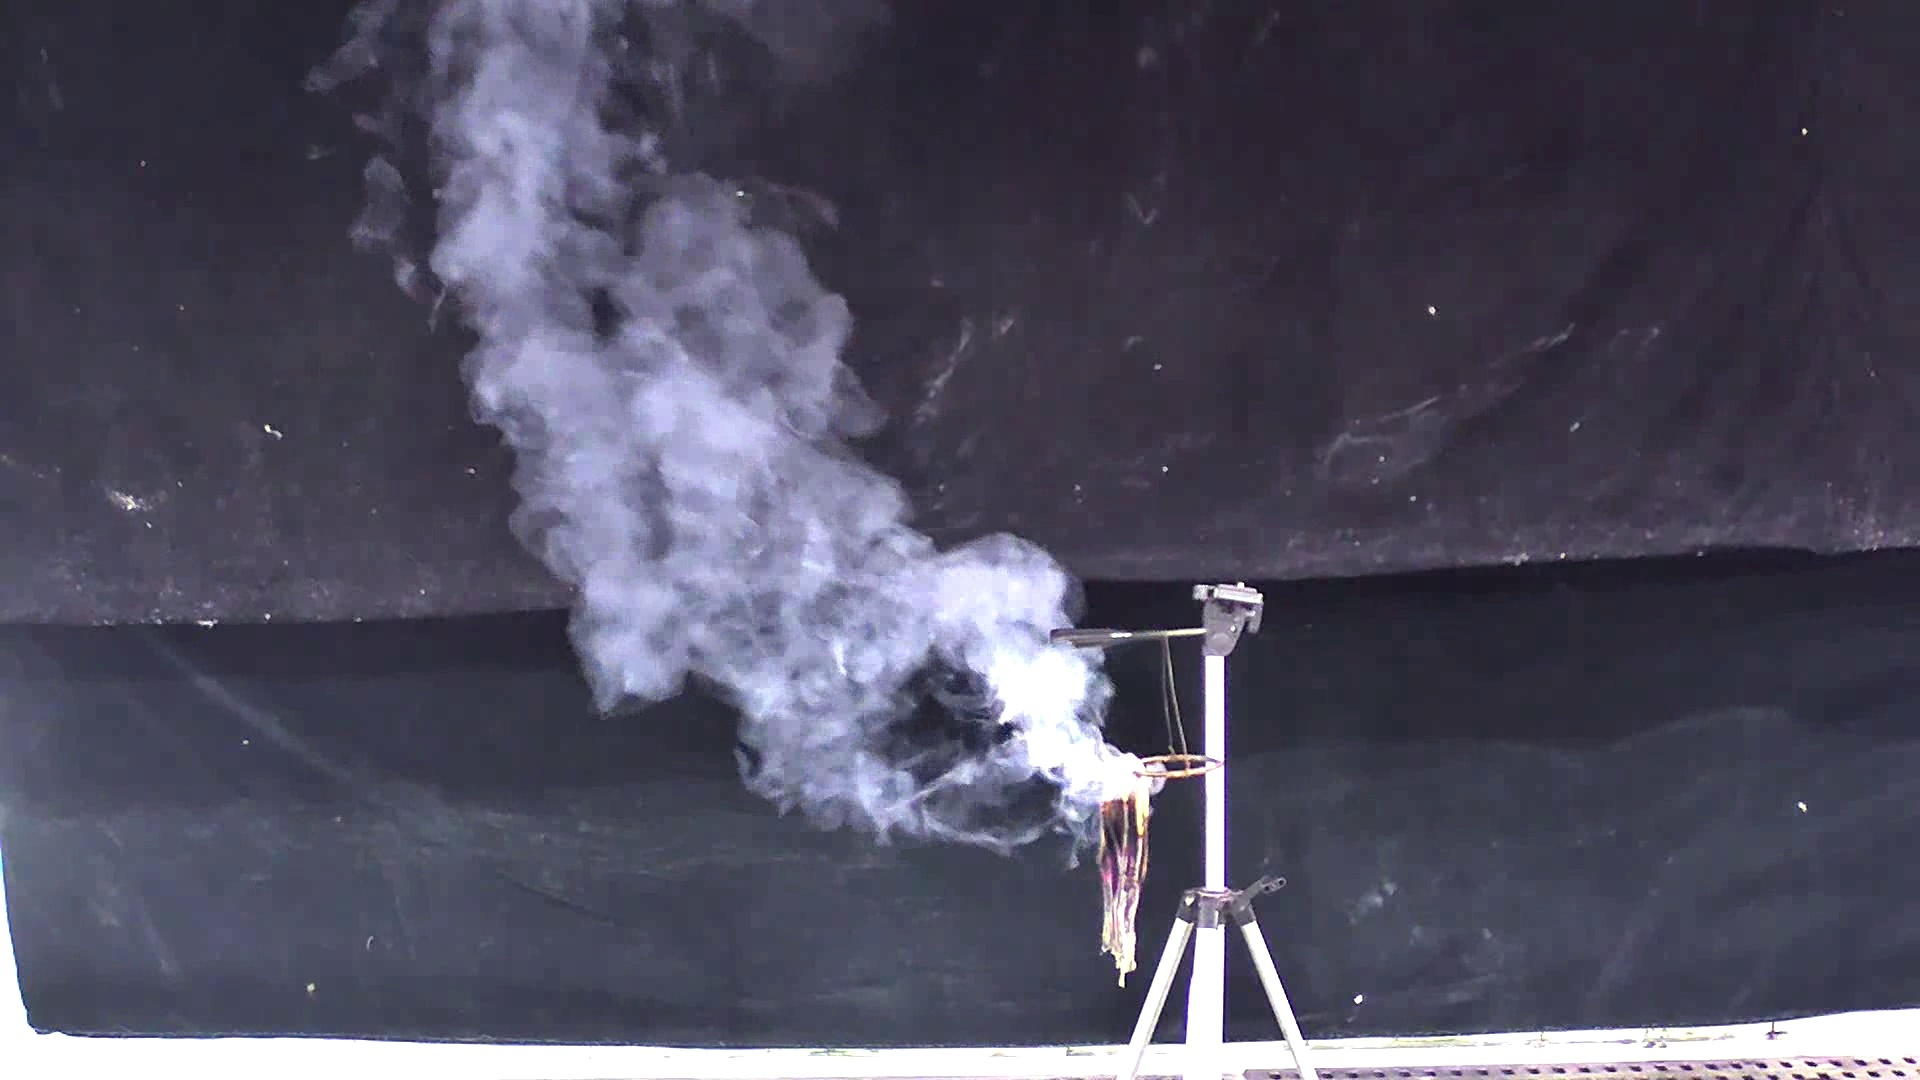smoke: (342, 20, 1164, 853)
